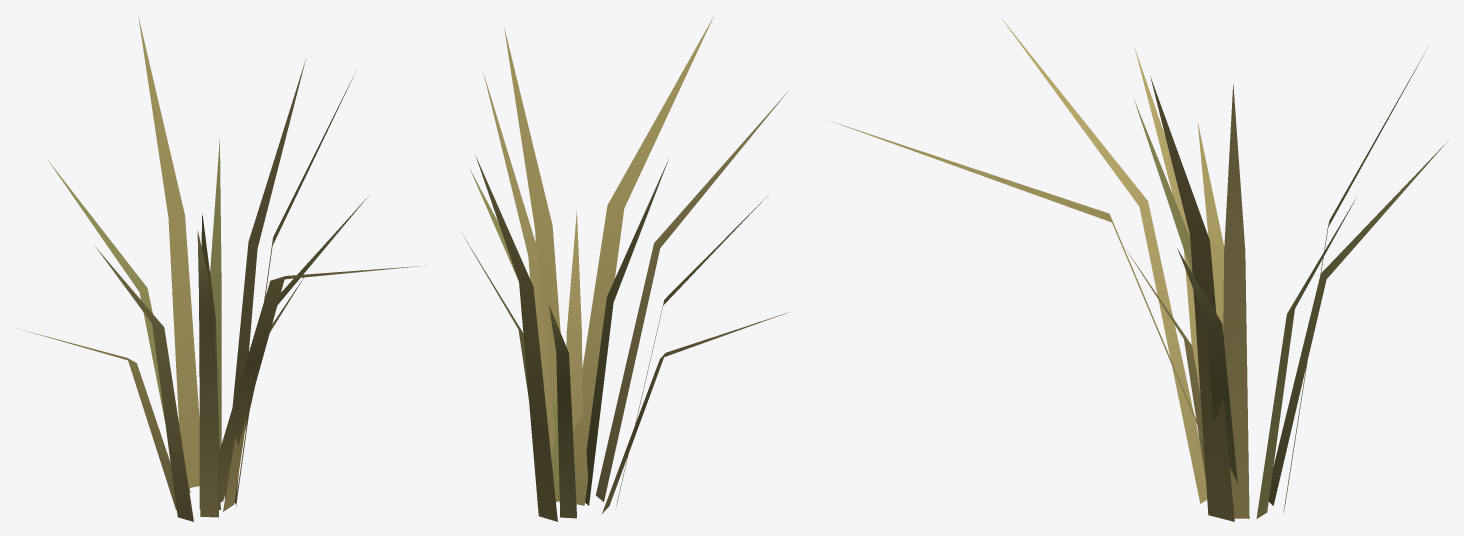
The model's file is grass_dry_0.fbx.
3 renders of one model, left to right at view 1: azimuth 30°, elevation 25°; view 2: azimuth 150°, elevation 25°; view 3: azimuth 270°, elevation 25°, orthographic. The views are drawn at different scales.
Visible parts, largest first — view 1: grass_dry_0; view 2: grass_dry_0; view 3: grass_dry_0.
Boxes of the visible parts, x1=… form: grass_dry_0: x1=20, y1=16, x2=424, y2=521; grass_dry_0: x1=462, y1=15, x2=789, y2=521; grass_dry_0: x1=831, y1=17, x2=1448, y2=521.
Bounding box in the file's own units: 0.2878 × 0.3473 × 0.3982.
